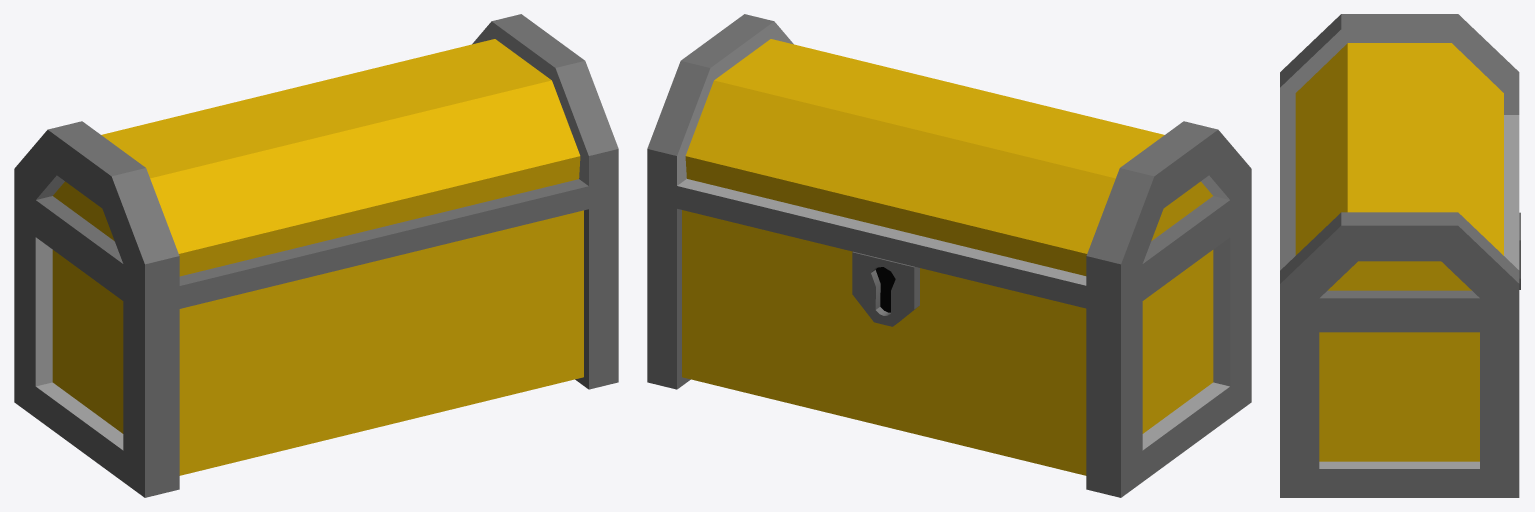
Rendered from Chest_Closed.fbx.
The picture shows the model from 3 angles, left to right: view 1: azimuth 30°, elevation 25°; view 2: azimuth 150°, elevation 25°; view 3: azimuth 270°, elevation 25°; orthographic projection. The views are drawn at different scales.
Parts seen in each view (by area): view 1: Chest; view 2: Chest; view 3: Chest.
Boxes of the visible parts, left/top/right/bottom form: Chest: left=14, top=14, right=618, bottom=497; Chest: left=647, top=14, right=1251, bottom=497; Chest: left=1280, top=14, right=1520, bottom=497.
Size of the model in its own units: 140 by 83.92 by 67.29.
